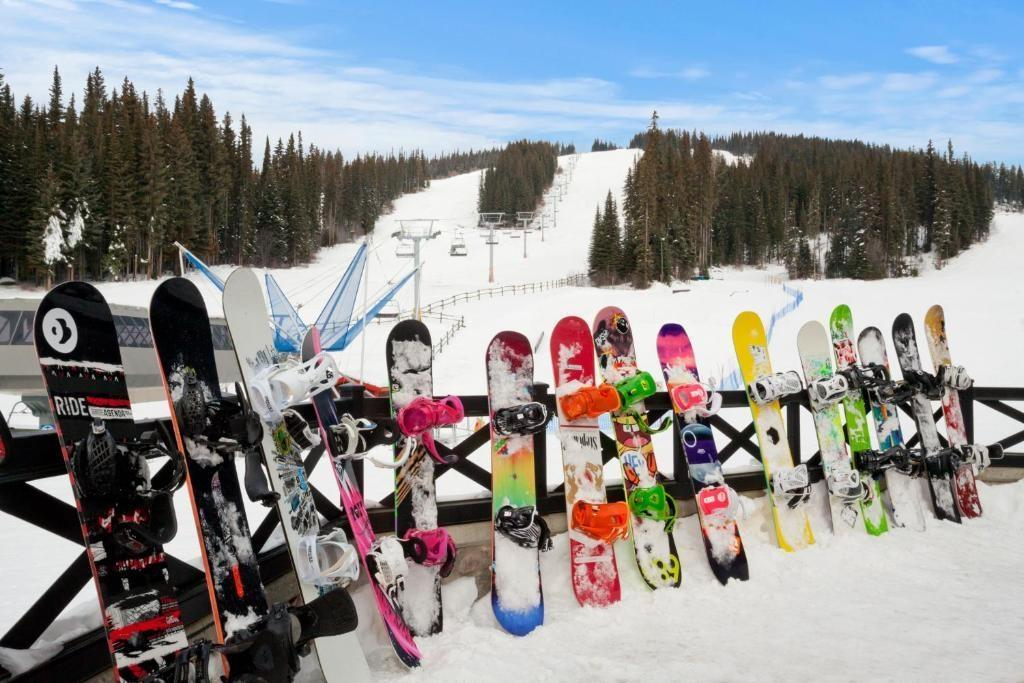Snowboard: (25, 268, 223, 683), (202, 249, 380, 679), (128, 263, 311, 680), (285, 315, 441, 676), (580, 288, 690, 596), (645, 309, 765, 591), (718, 298, 828, 561), (384, 320, 466, 640), (475, 319, 548, 640), (786, 304, 877, 545), (854, 317, 946, 546), (554, 314, 621, 620), (914, 298, 993, 520), (891, 307, 970, 529), (830, 297, 898, 541)
